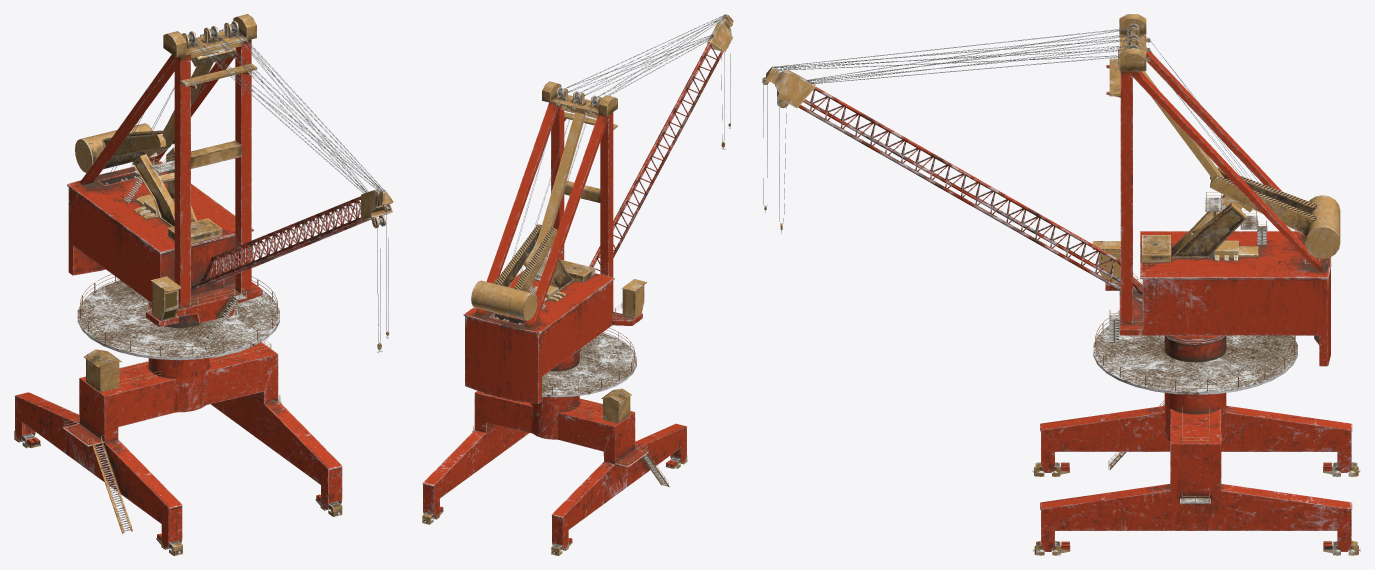
3 views of the same model, side by side, from view 1: azimuth 30°, elevation 25°; view 2: azimuth 150°, elevation 25°; view 3: azimuth 270°, elevation 25° (orthographic). The views are drawn at different scales.
Parts seen in each view (by area): view 1: polySurface2665, polySurface2664, polySurface2658; view 2: polySurface2665, polySurface2664, polySurface2658; view 3: polySurface2665, polySurface2664, polySurface2658.
Boxes of the visible parts, <box> form: polySurface2665: <box>15,161,342,553</box>; polySurface2664: <box>19,14,393,550</box>; polySurface2658: <box>14,21,391,555</box>; polySurface2665: <box>422,270,687,554</box>; polySurface2664: <box>431,14,733,551</box>; polySurface2658: <box>422,16,732,555</box>; polySurface2665: <box>1032,231,1360,551</box>; polySurface2664: <box>763,14,1354,555</box>; polySurface2658: <box>762,23,1358,555</box>.
Size of the model in its own units: 268 by 613 by 691.
3 materials, 3 textured.
